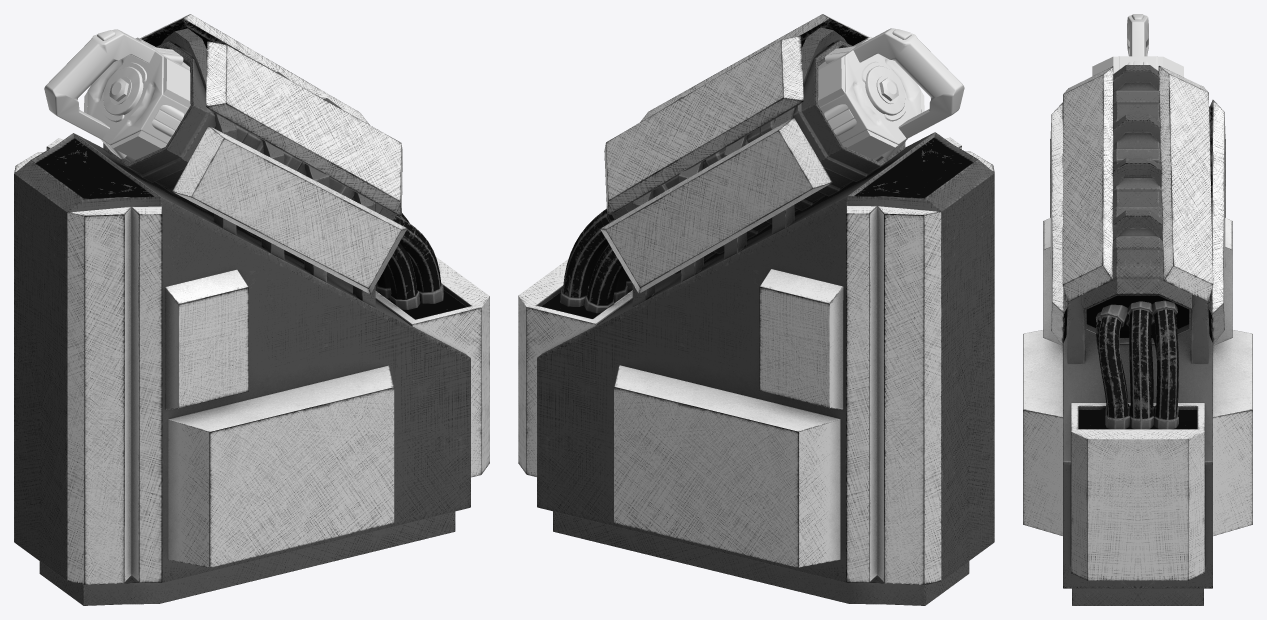
Rendered from SM_Interactable_BatterySocket.fbx.
3 views of the same model, side by side, from view 1: azimuth 30°, elevation 25°; view 2: azimuth 150°, elevation 25°; view 3: azimuth 270°, elevation 25° (orthographic). The views are drawn at different scales.
Parts seen in each view (by area): view 1: BatteryHolderBase, TA_prop_handheld_battery, BatteryHole, Cables; view 2: BatteryHolderBase, TA_prop_handheld_battery, BatteryHole, Cables; view 3: BatteryHolderBase, BatteryHole, Cables, TA_prop_handheld_battery.
Part boxes in pixels (x1,y1,x2,y2): BatteryHolderBase: (14, 14, 489, 605); TA_prop_handheld_battery: (44, 29, 190, 159); BatteryHole: (103, 41, 396, 274); Cables: (375, 213, 443, 309); BatteryHolderBase: (518, 14, 994, 605); TA_prop_handheld_battery: (818, 28, 964, 159); BatteryHole: (611, 40, 905, 274); Cables: (560, 209, 632, 313); BatteryHolderBase: (1023, 65, 1252, 605); BatteryHole: (1082, 82, 1193, 345); Cables: (1096, 300, 1178, 429); TA_prop_handheld_battery: (1092, 14, 1183, 76).
Size of the model in its own units: 73.29 by 41.01 by 91.21.
